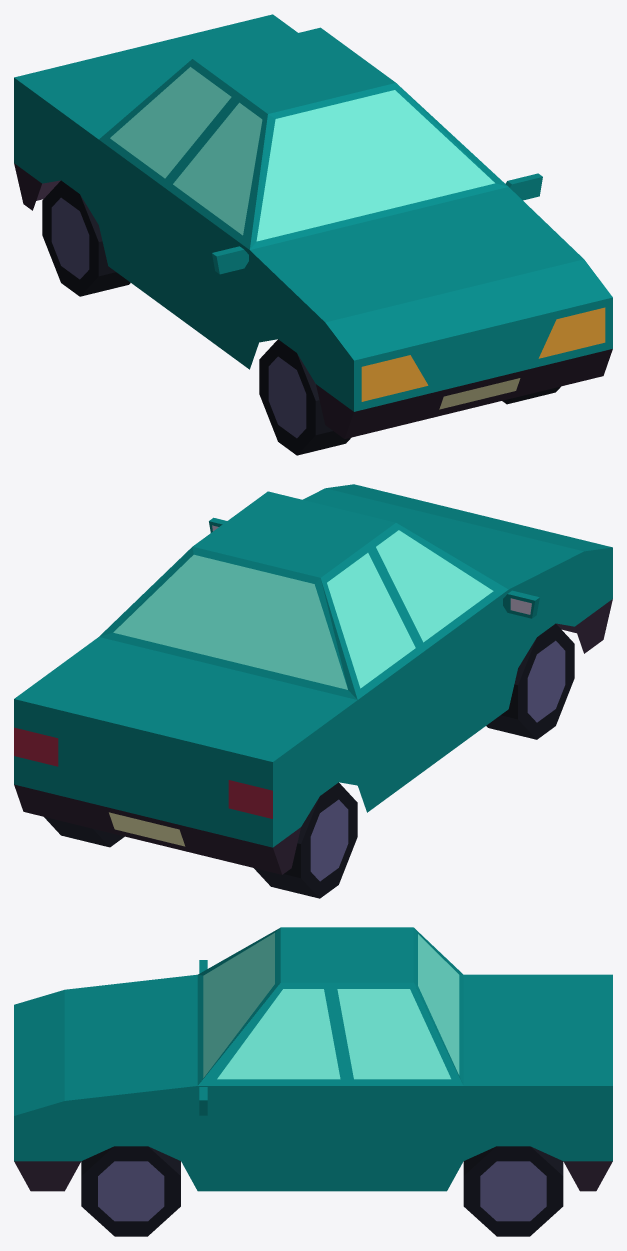
File: car2.obj
3 renders of one model, top to bottom at view 1: azimuth 30°, elevation 25°; view 2: azimuth 150°, elevation 25°; view 3: azimuth 270°, elevation 25°, orthographic. The views are drawn at different scales.
Parts seen in each view (by area): view 1: CAR2; view 2: CAR2; view 3: CAR2.
Part boxes in pixels (bbox=[...]): CAR2: bbox=[14, 14, 612, 455]; CAR2: bbox=[14, 484, 612, 898]; CAR2: bbox=[14, 927, 612, 1236].
Bounding box in the file's own units: 2 × 1.5 × 3.6.
